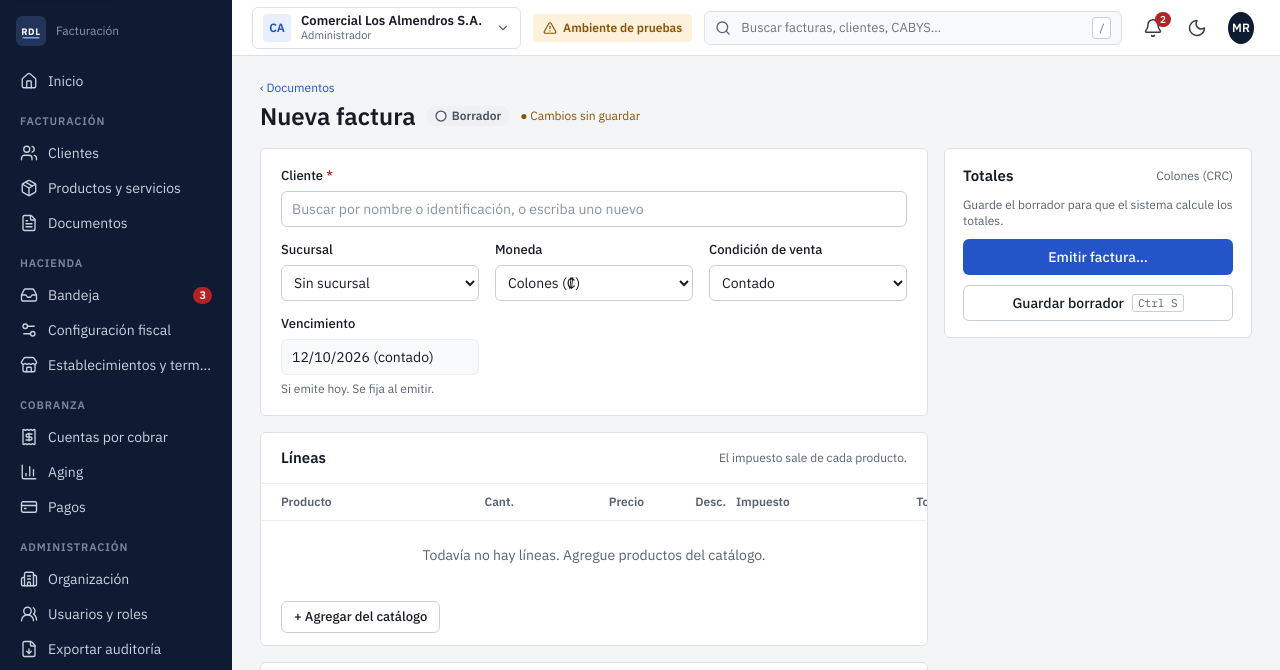
Test: pantalla 13 · borrador de factura › un descuento sin motivo no se guarda y se explica
Step 1. Type "Roble" into the dropdown labelled "Cliente *" → (594, 209), box [281,191,907,227]
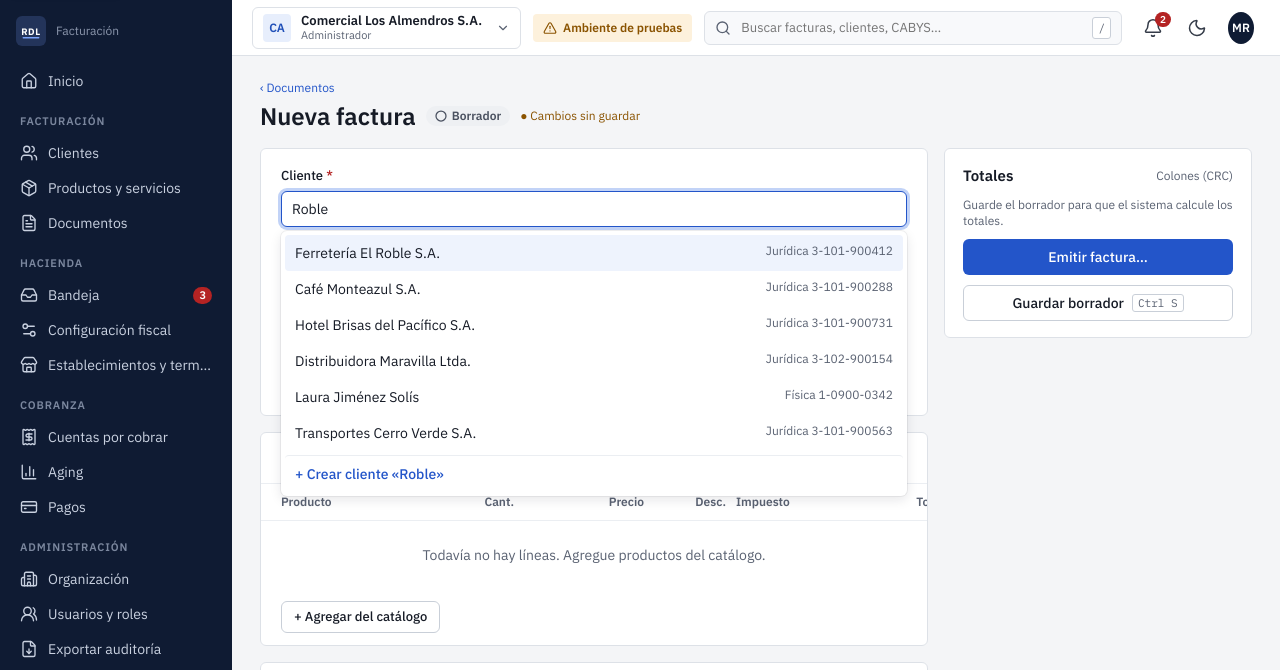
Step 2. Click the option "Ferretería El Roble S.A. Jurídica 3-101-900412" → (367, 253), box [285,235,903,271]
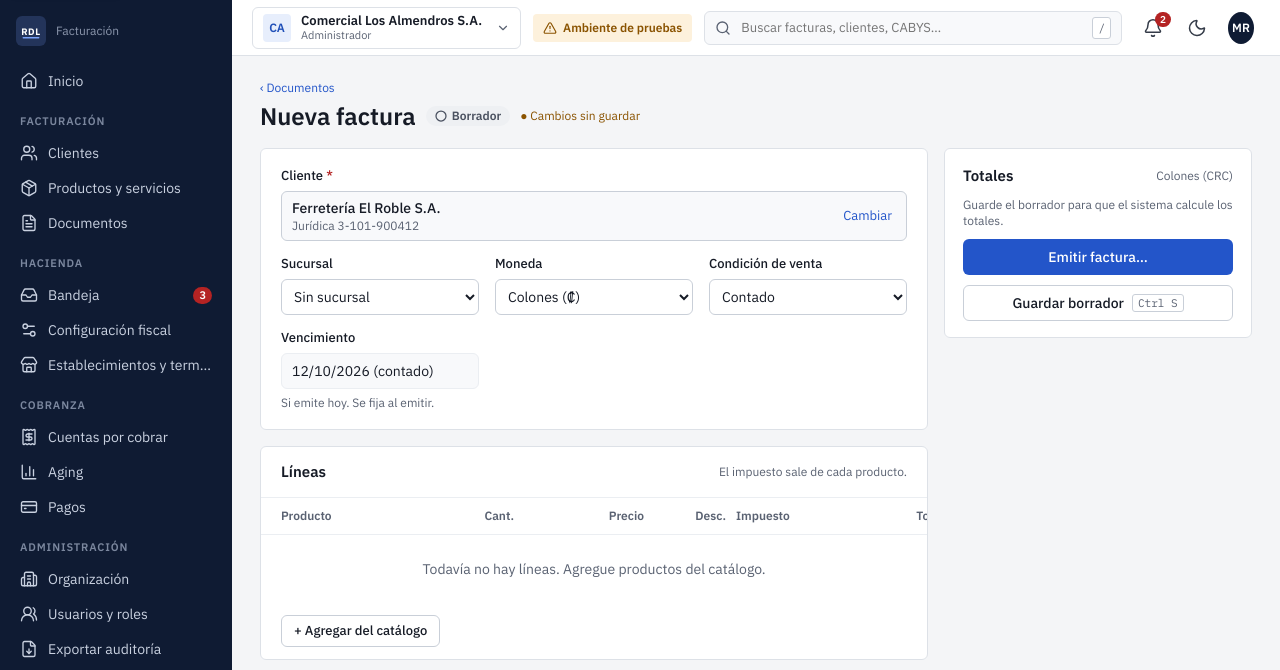
Step 3. Click the button "+ Agregar del catálogo" → (361, 631), box [281,615,440,647]
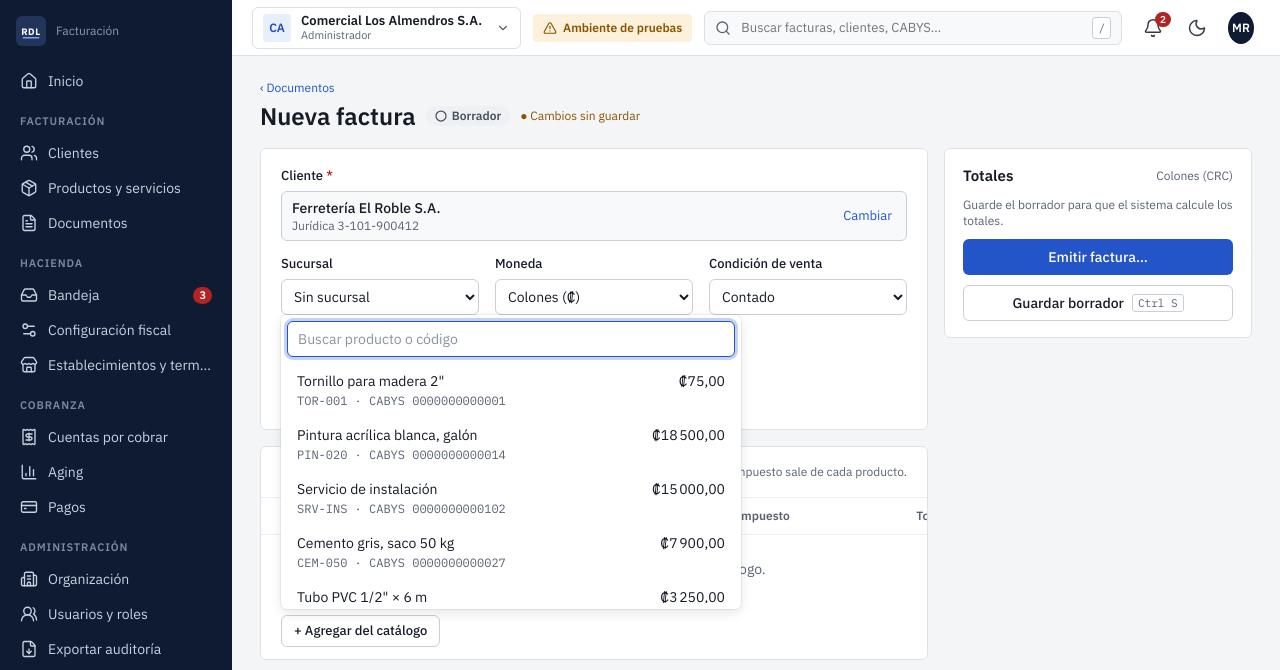
Step 4. Click the button "Tornillo para madera 2\" ₡75,00 TOR-001 · CABYS 0000000000001" → (371, 381), box [287,363,735,417]
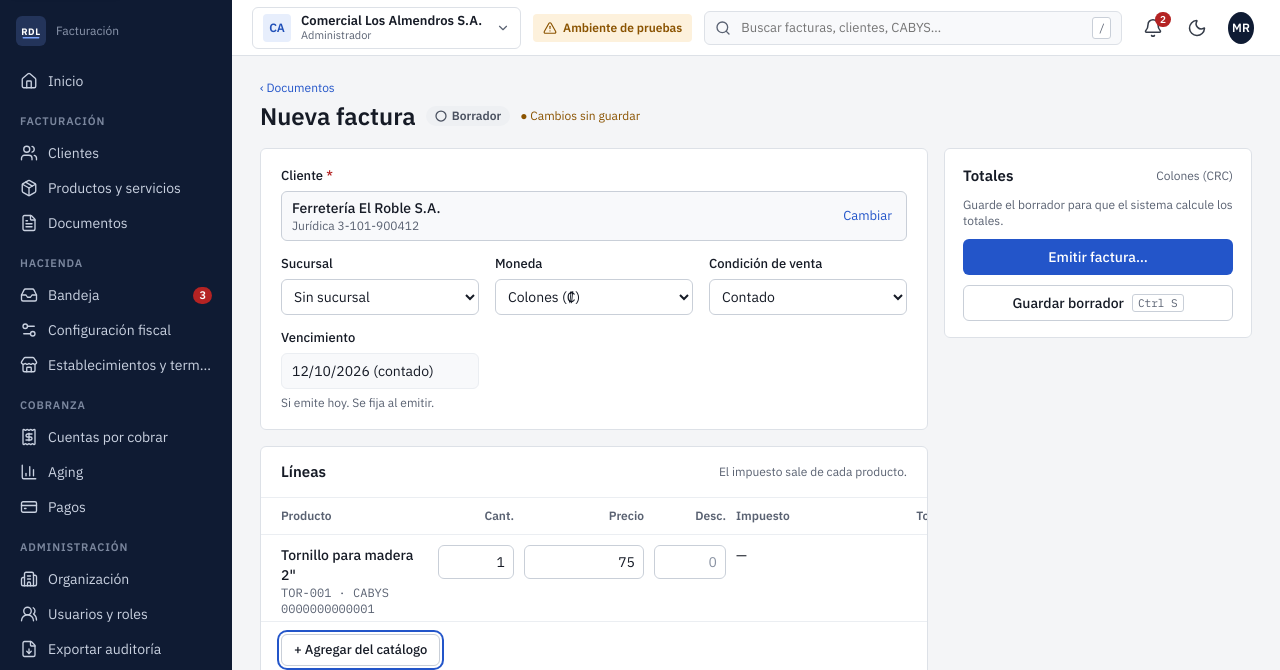
Step 5. Type "10" into the field named "Desc. · Línea 1" → (690, 562), box [654,545,726,579]
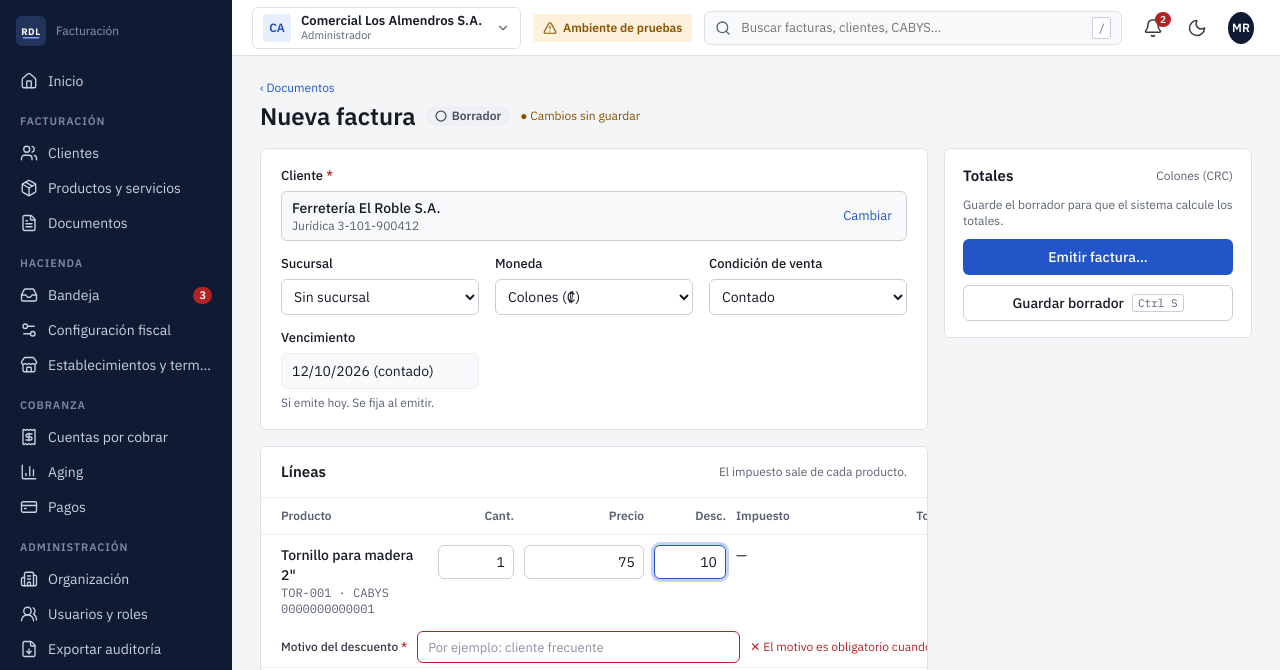
Expected: the text "Motivo del descuento" is shown, [281,639,398,654]
Step 6. Click the button "Emitir factura…" → (1098, 257), box [963,239,1233,275]
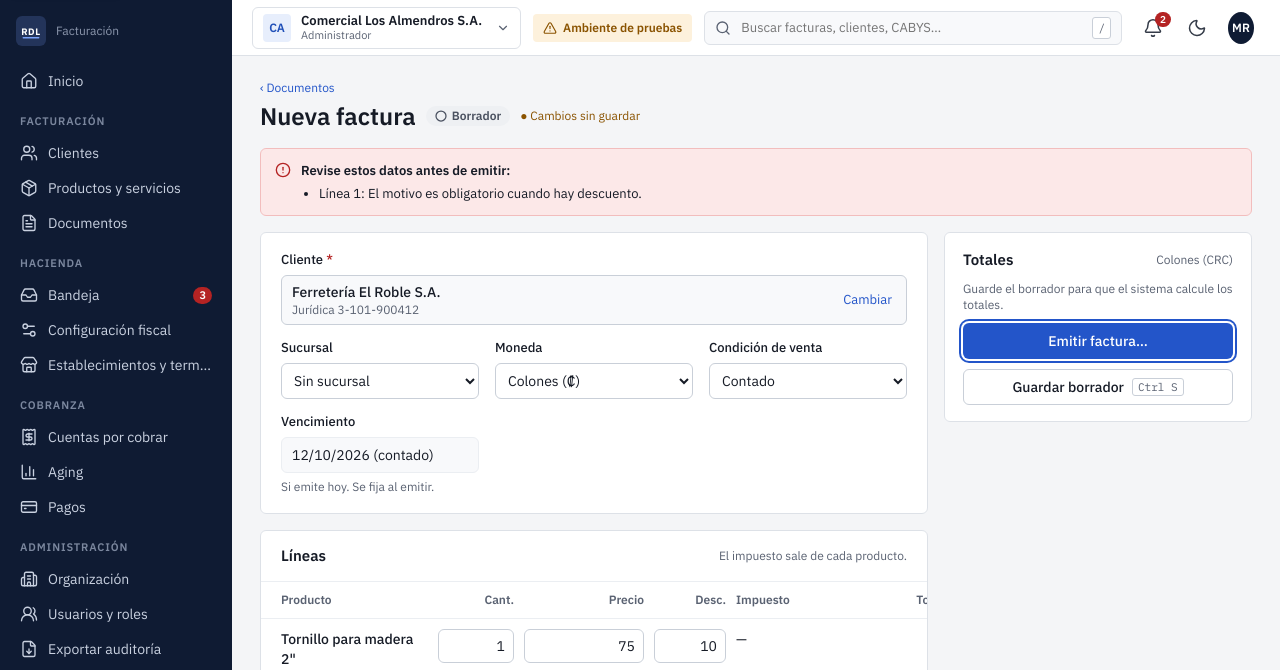
Expected: the text "Revise estos datos antes de emitir:" is shown, [301,162,510,179]
Expected: the list item "Línea 1: El motivo es obligatorio cuando hay descuento." is shown, [319,184,642,203]
